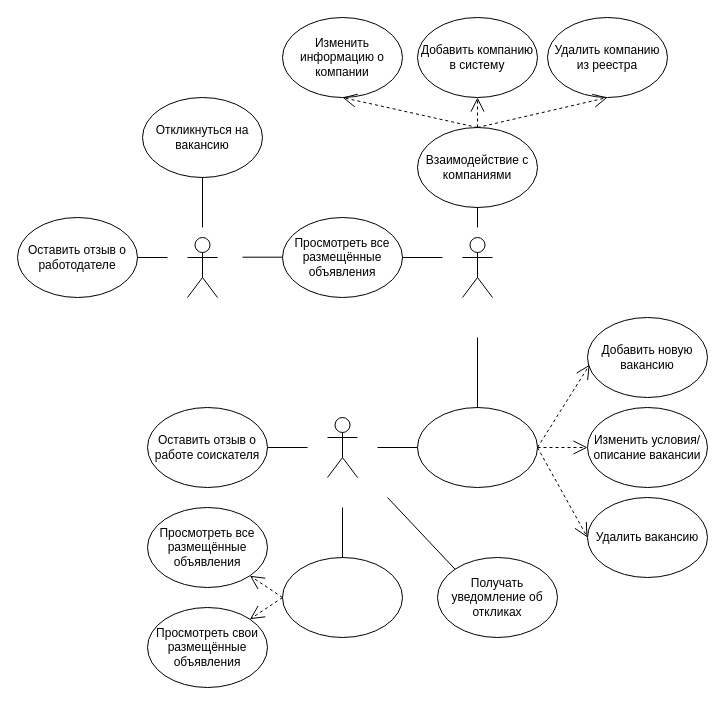
Some shapes in this 725 by 705 pixel diagram are drawn without their labels. The shapes that lost their labels are listed below. From the top down, each one's centre as x and y in pixels, then its label:
point 202,267: Подросток (соискатель)
point 477,267: Администратор
point 342,447: Компания
point 477,447: Заполнить информацию о вакансиях
point 342,597: Посмотреть вакансии
